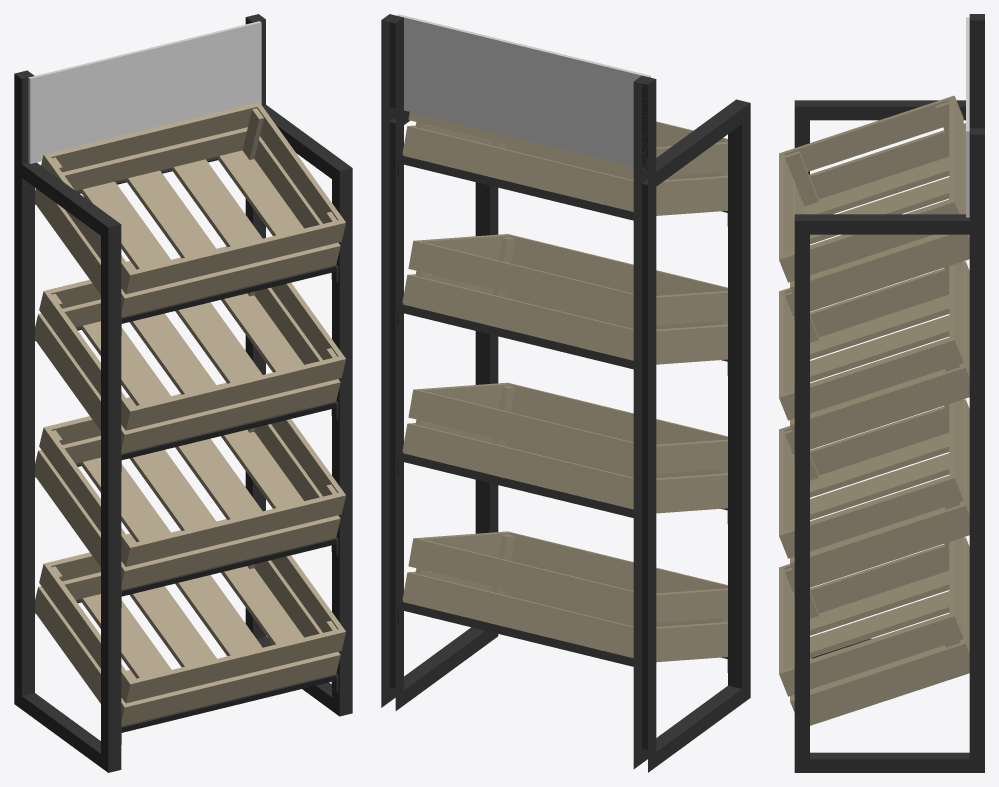
Rendered from SM_ShelfD_test.fbx.
3 renders of one model, left to right at view 1: azimuth 30°, elevation 25°; view 2: azimuth 150°, elevation 25°; view 3: azimuth 270°, elevation 25°, orthographic. The views are drawn at different scales.
Visible parts, largest first — view 1: SM_ShelfD_test; view 2: SM_ShelfD_test; view 3: SM_ShelfD_test.
Boxes of the visible parts, x1,y1,x2,y2 form: SM_ShelfD_test: (14, 14, 352, 772); SM_ShelfD_test: (381, 14, 750, 772); SM_ShelfD_test: (779, 14, 984, 772).
Size of the model in its own units: 75 by 185 by 54.1.
